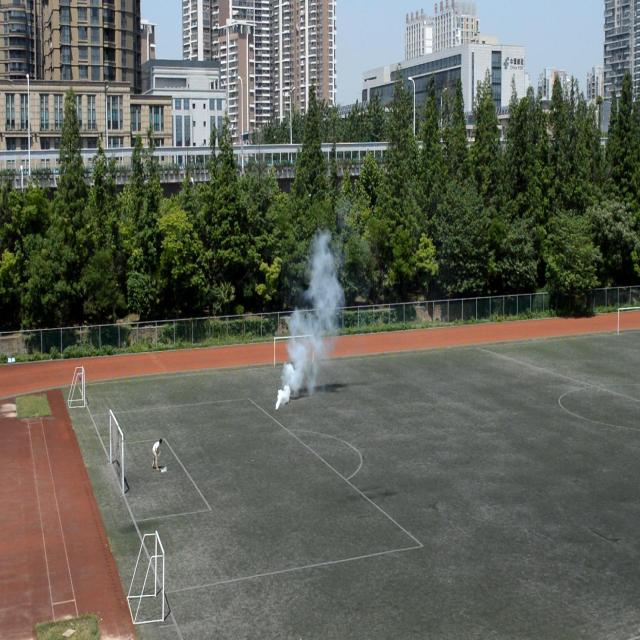smoke: (276, 230, 344, 406)
